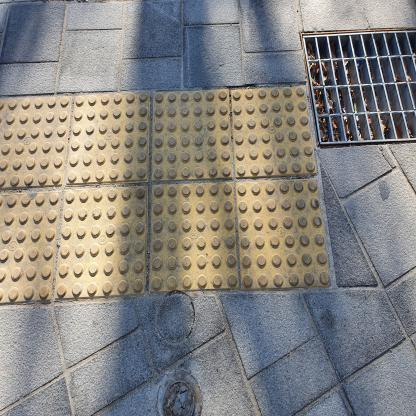podotacti: (0, 68, 338, 312)
